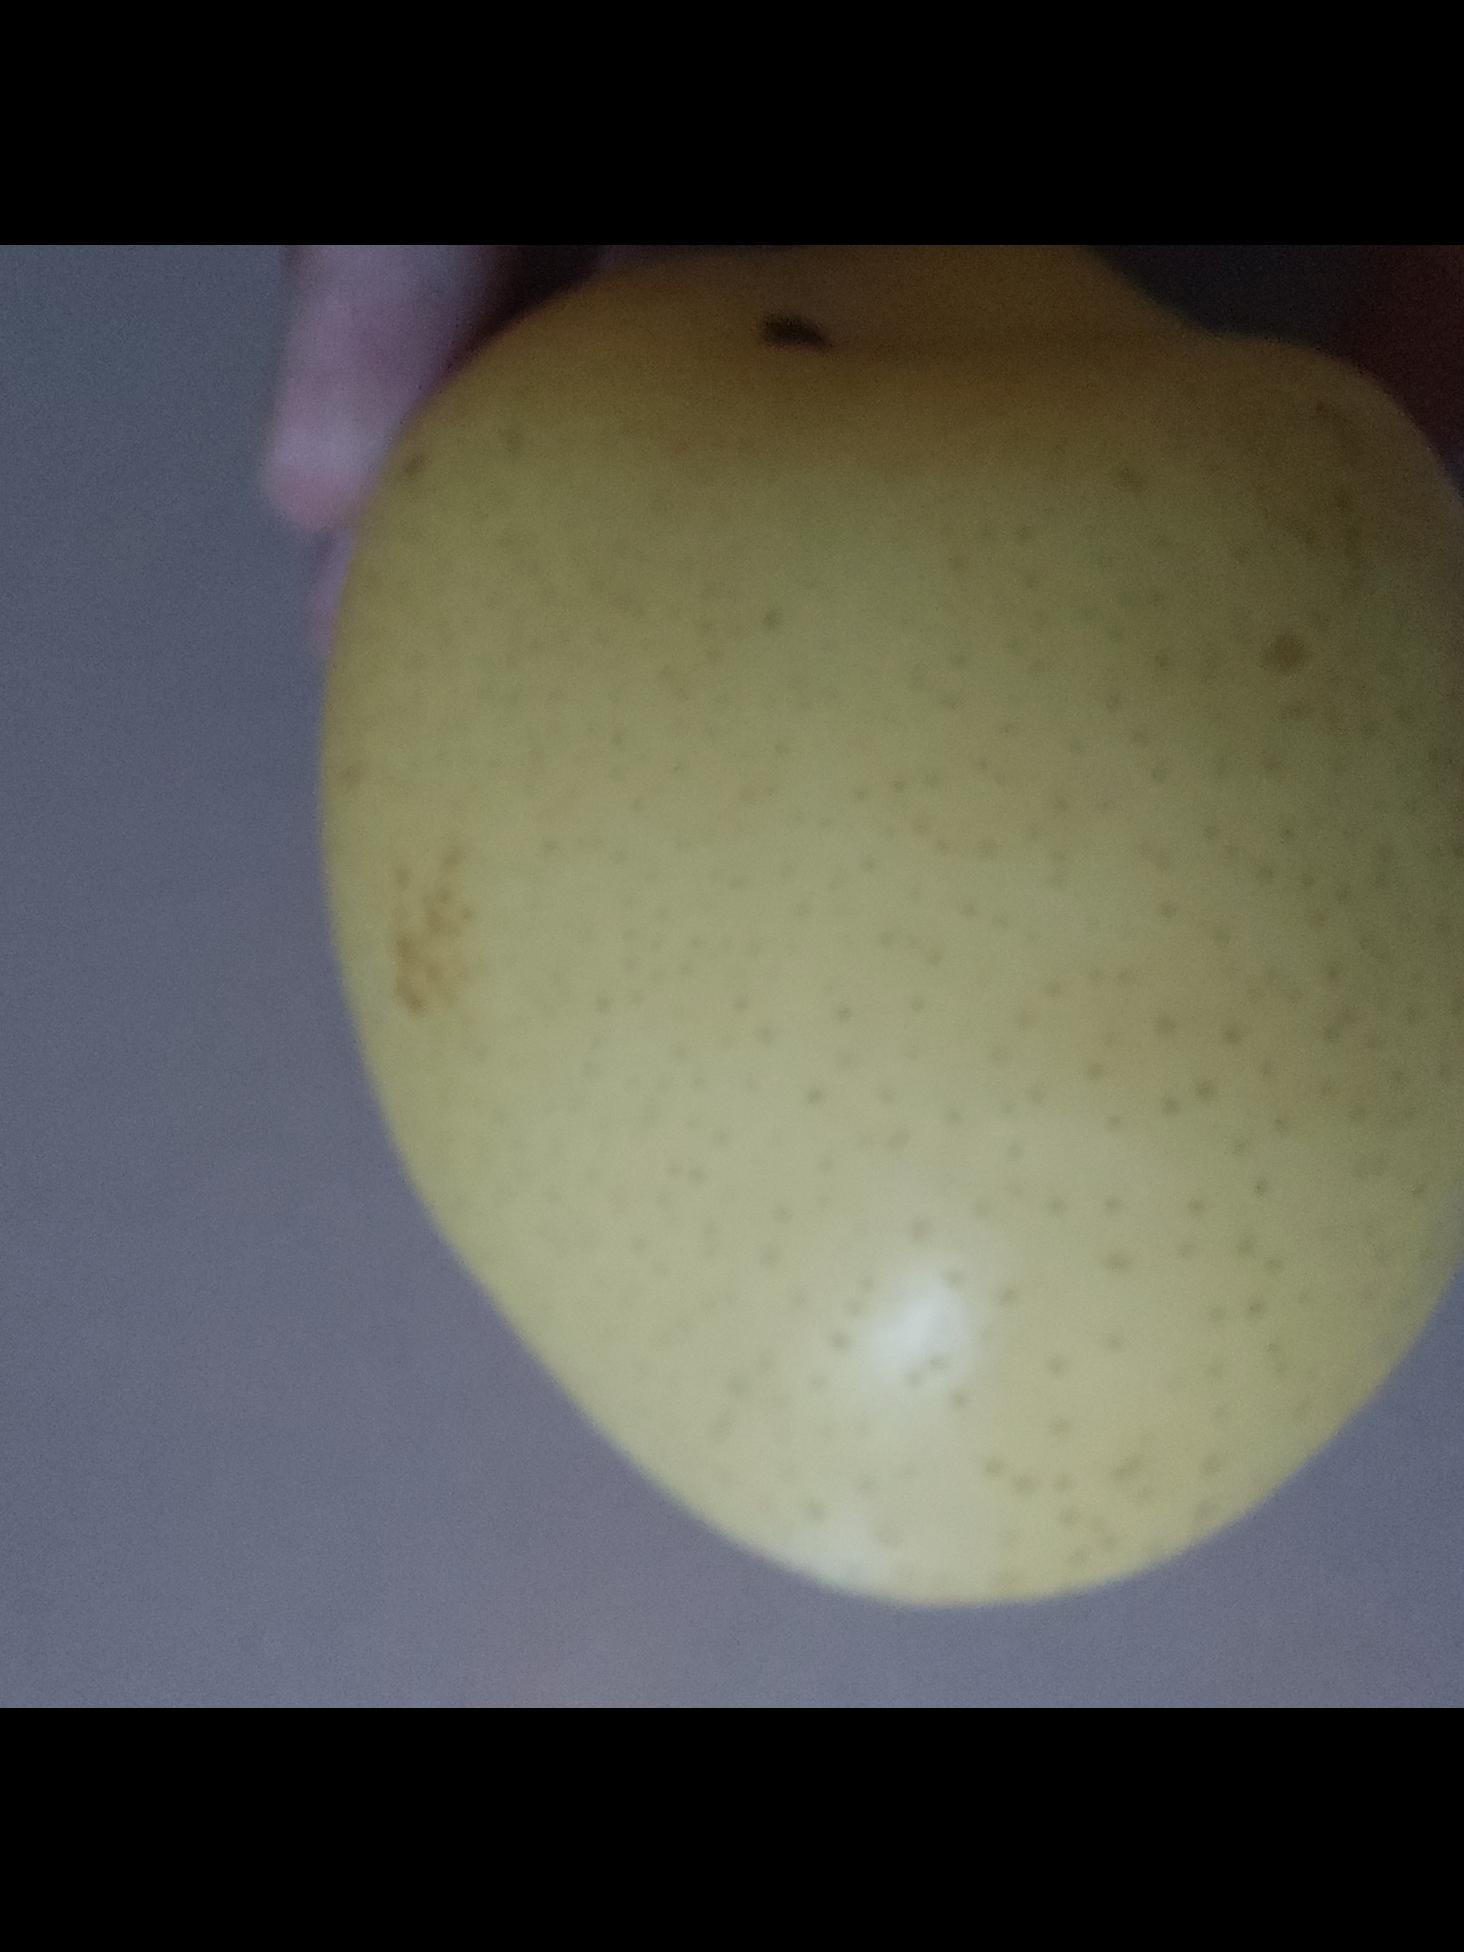Good Pear: (323, 368, 1464, 1635)
